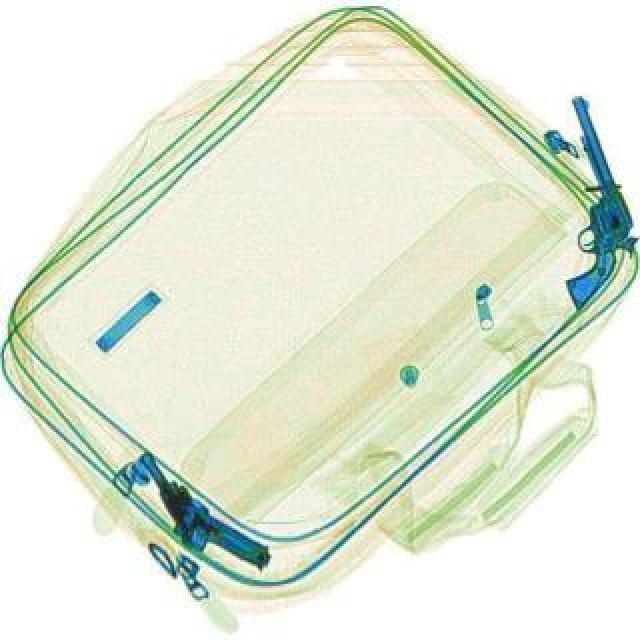gun: (506, 98, 638, 292), (108, 454, 276, 594)
